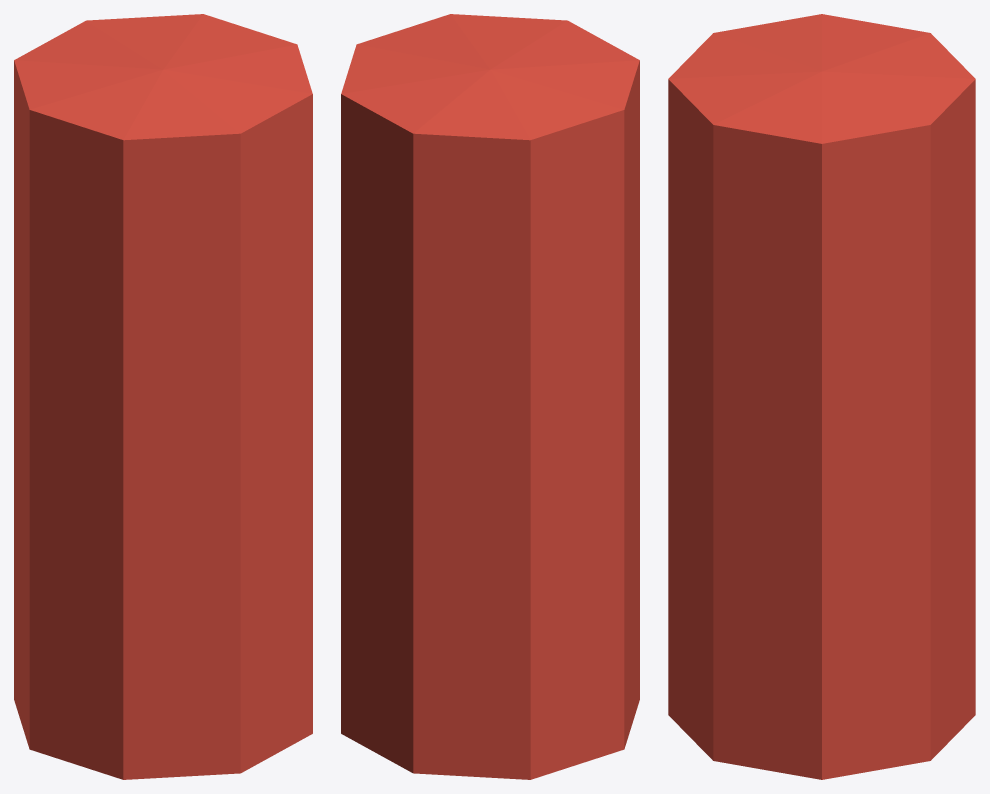
Rendered from SM_Camera_Crane_Piston.fbx.
3 views of the same model, side by side, from view 1: azimuth 30°, elevation 25°; view 2: azimuth 150°, elevation 25°; view 3: azimuth 270°, elevation 25° (orthographic).
Parts seen in each view (by area): view 1: SM_Camera_Crane_Piston; view 2: SM_Camera_Crane_Piston; view 3: SM_Camera_Crane_Piston.
Part boxes in pixels (<box>): SM_Camera_Crane_Piston: <box>14,14,312,779</box>; SM_Camera_Crane_Piston: <box>341,14,639,779</box>; SM_Camera_Crane_Piston: <box>668,14,975,779</box>.
Bounding box in the file's own units: 20.49 × 20.49 × 47.32.
